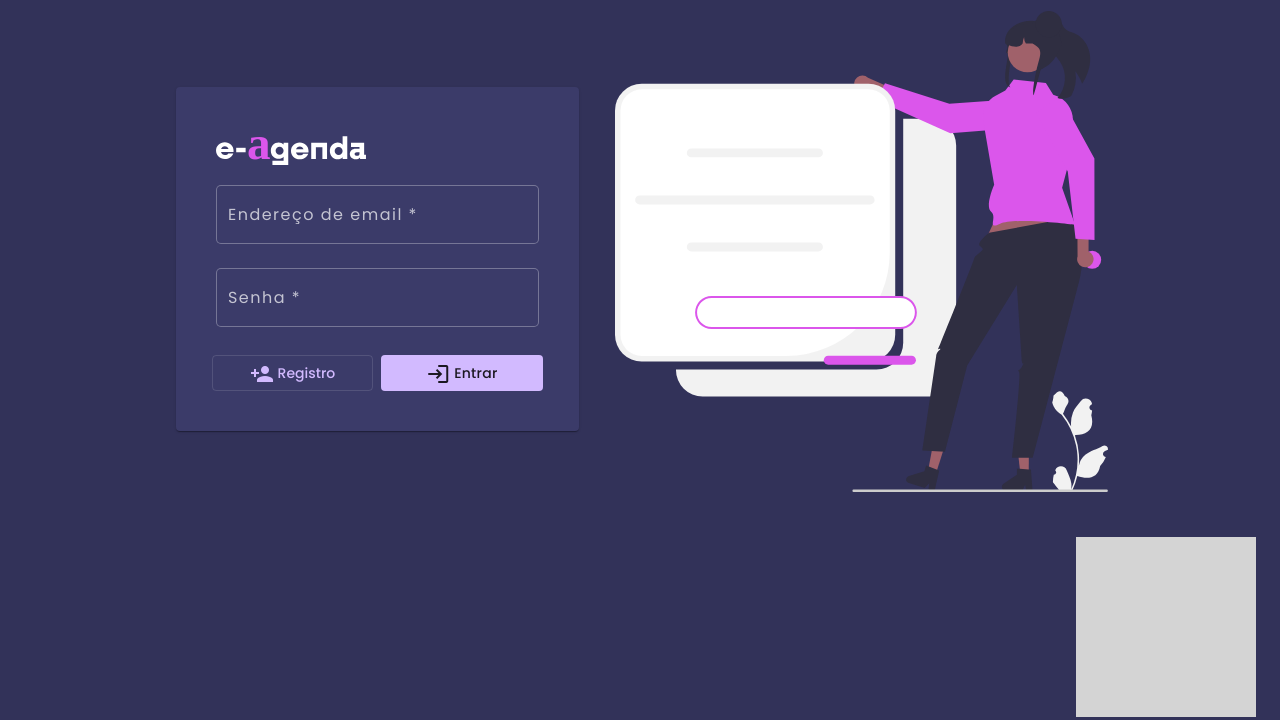
Test: Processo de Login do Usuário › Deve validar email vazio
Focus the field with test id "txtEmail" at (378, 219), box top-left (228, 210), bottom-right (527, 228)
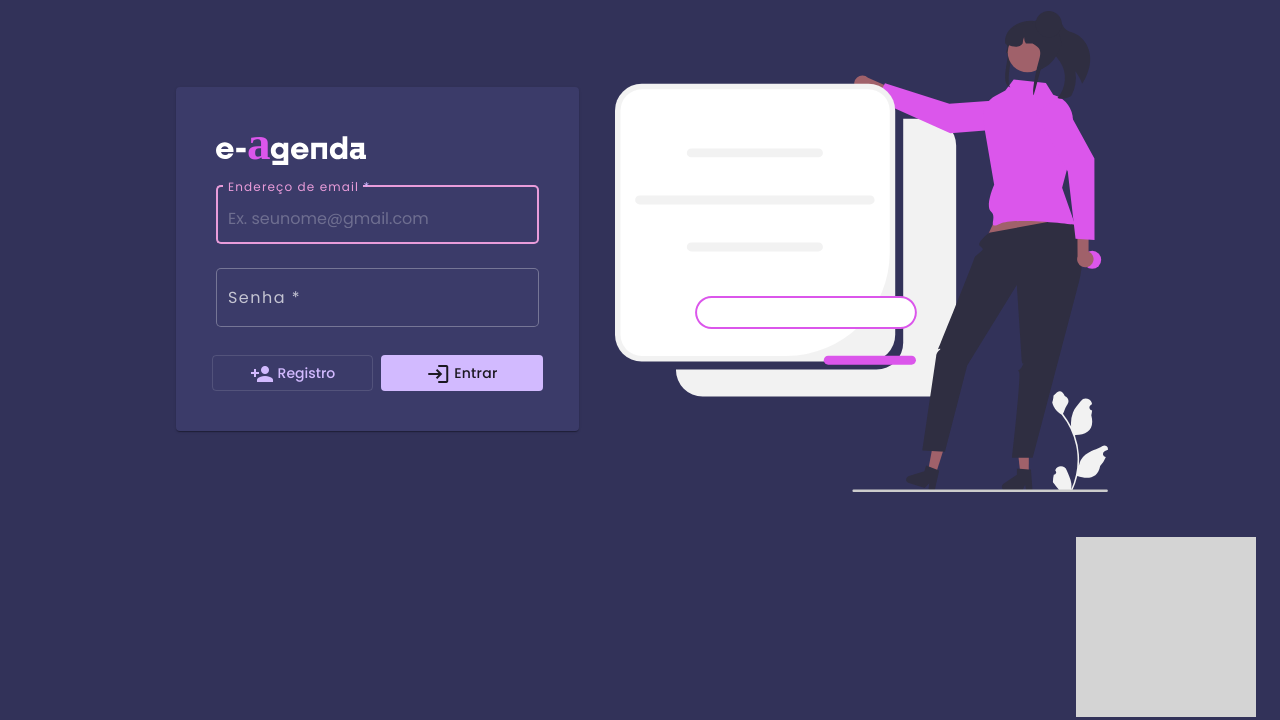
Focus the password field with test id "txtSenha" at (378, 302), box top-left (228, 293), bottom-right (527, 311)
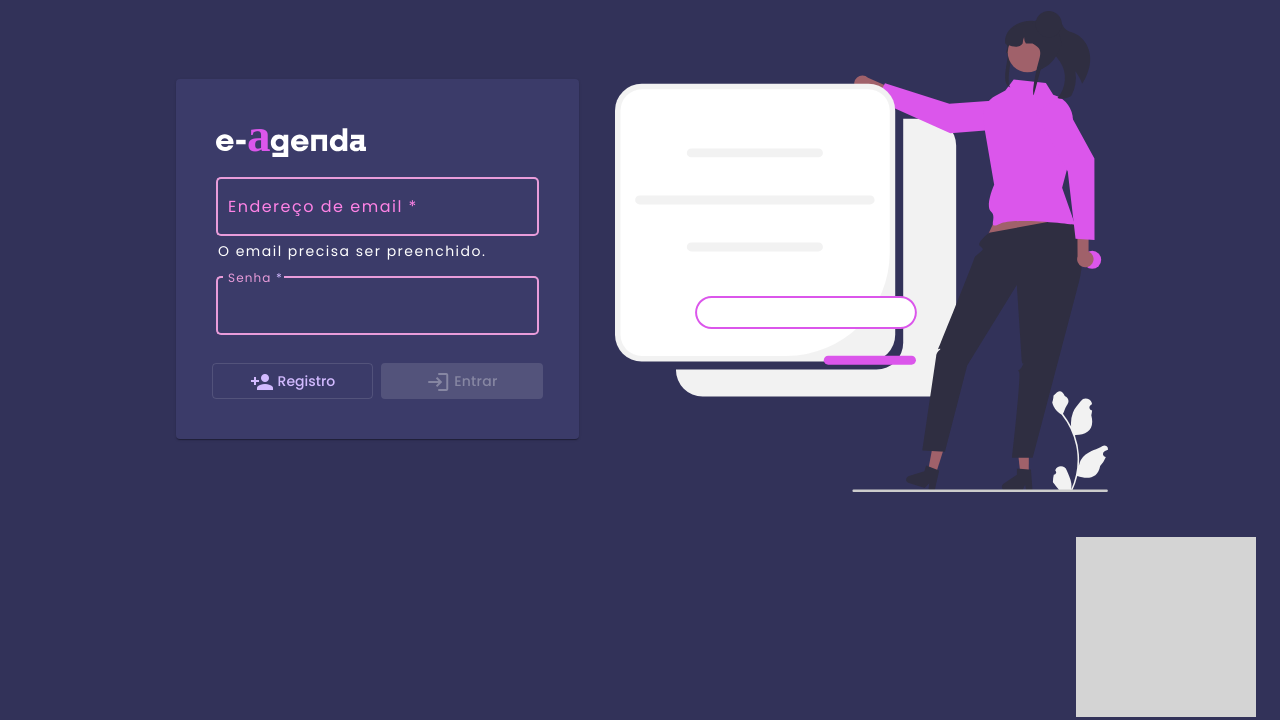
Expected: the text "O email precisa ser preenchido." is shown, top-left (218, 244), bottom-right (486, 260)
